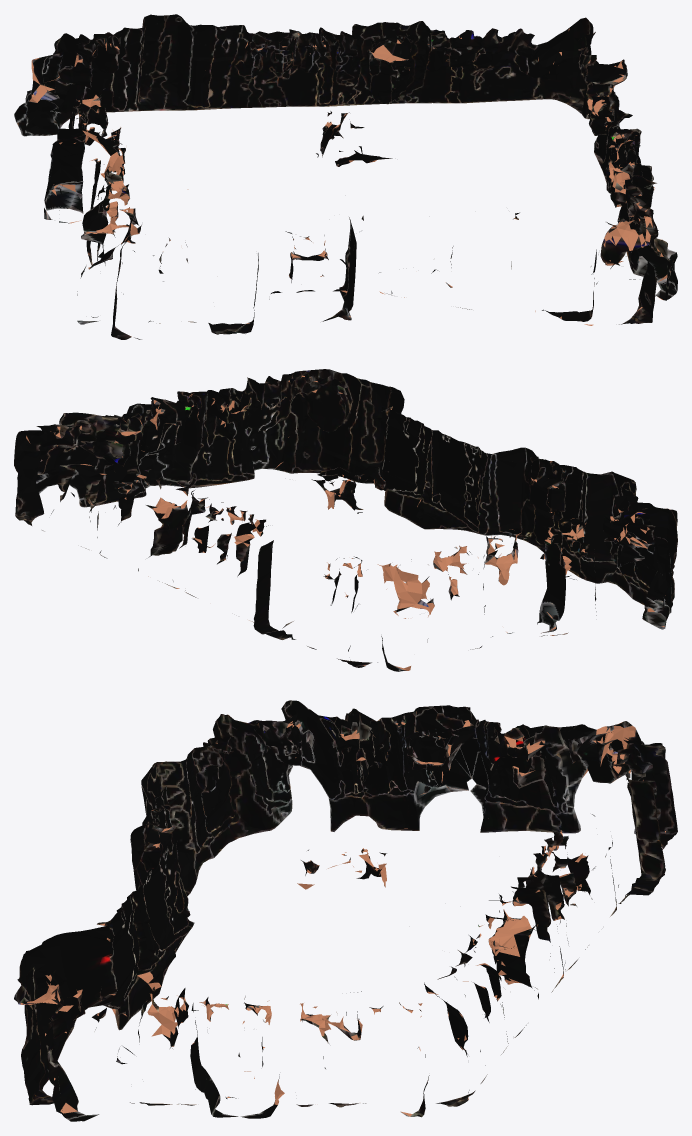
Rendered from rebuilt.glb.
3 views of the same model, one above another, from view 1: azimuth 30°, elevation 25°; view 2: azimuth 150°, elevation 25°; view 3: azimuth 270°, elevation 25° (orthographic). The views are drawn at different scales.
Parts seen in each view (by area): view 1: Node; view 2: Node; view 3: Node.
Boxes of the visible parts, bbox=[...] form: Node: bbox=[14, 14, 677, 339]; Node: bbox=[14, 369, 677, 671]; Node: bbox=[14, 700, 677, 1121].
Bounding box in the file's own units: 24.83 × 6.73 × 21.03.
1 material, 1 textured.
